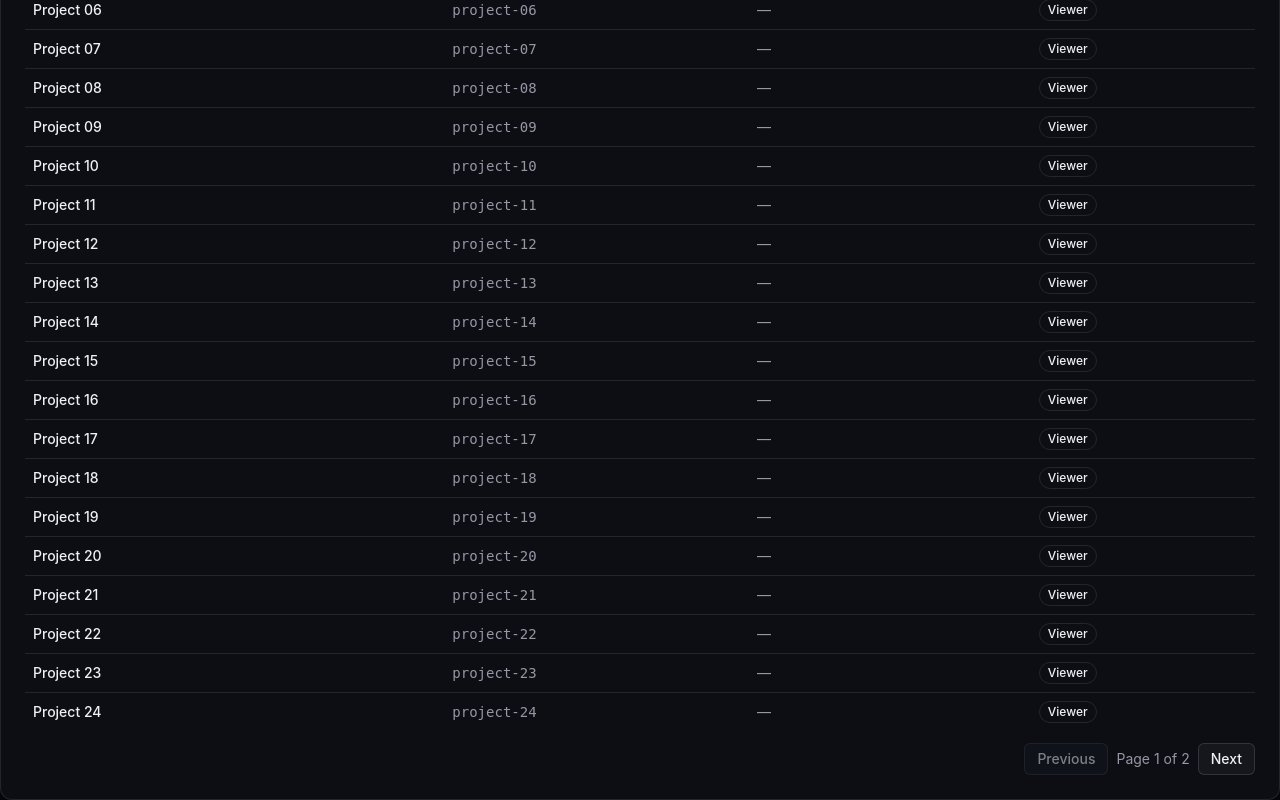
Test case: ProjectsIndexPage › pagination next button advances to second page
The width and height of the screenshot is (1280, 800).
(page scrolled)
Expected: the text "Project 25" is not shown
Click the button "Next" at (1226, 758), box x1=1198 y1=742 x2=1255 y2=774
(page scrolled)
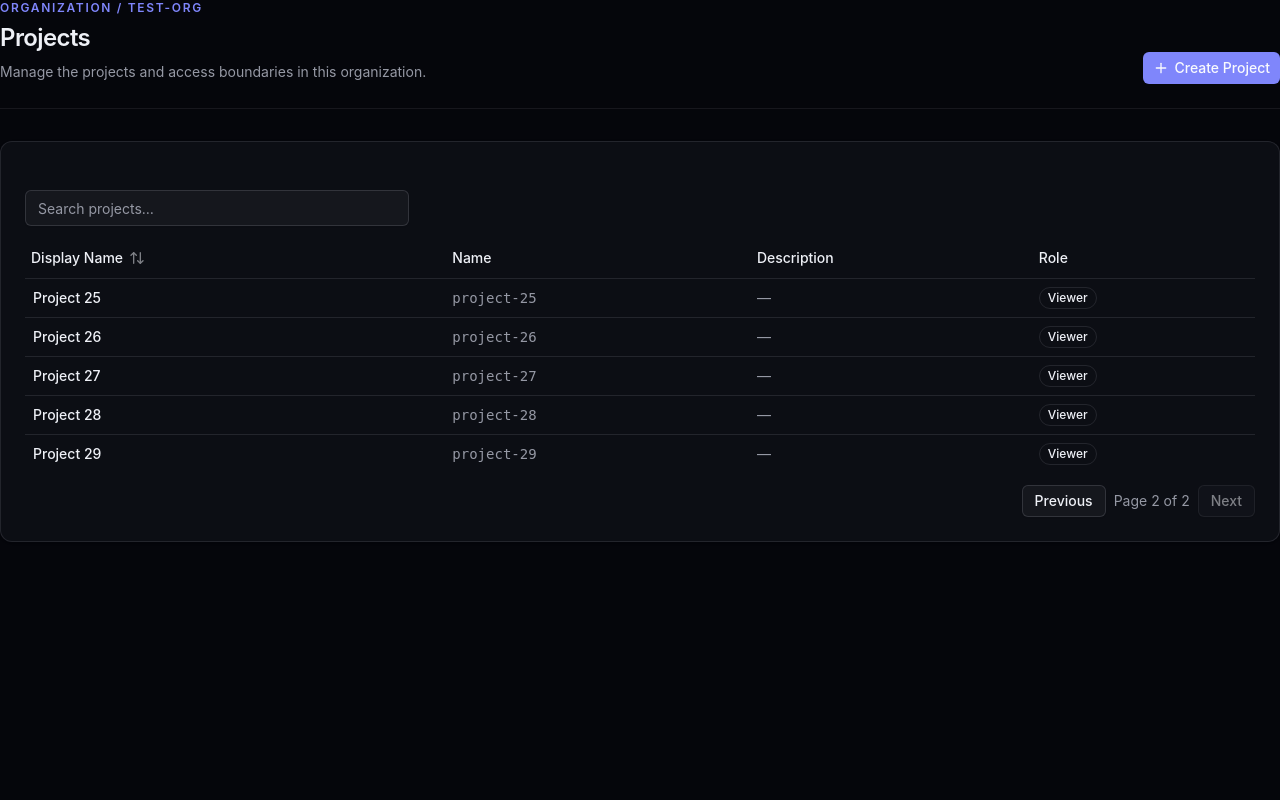
Expected: the text "Project 25" is shown, x1=33 y1=288 x2=101 y2=306
